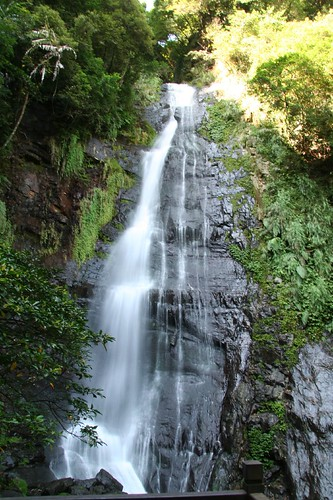wufengciWaterfall: (36, 71, 272, 447)
